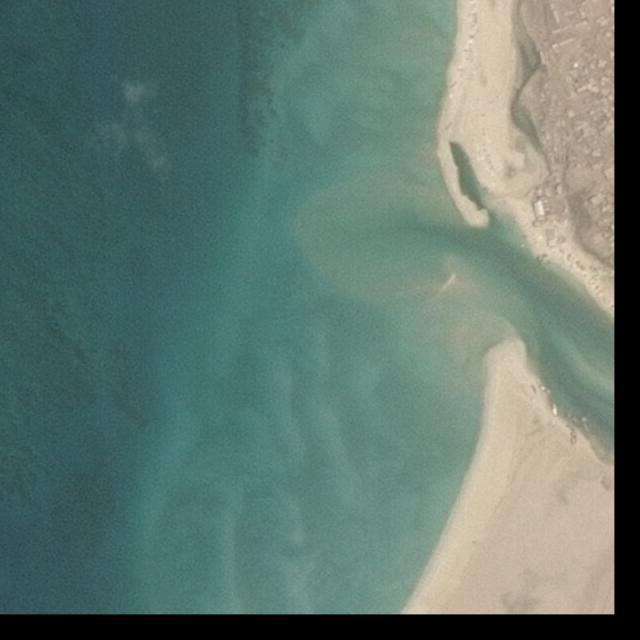ship: (540, 386, 551, 394), (553, 403, 558, 416)
